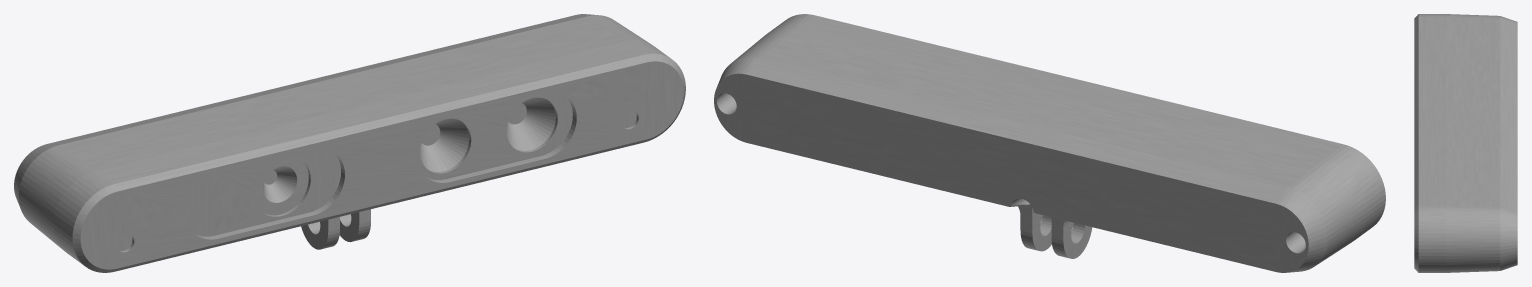
File: xtion_pro_live.dae
3 views of the same model, side by side, from view 1: azimuth 30°, elevation 25°; view 2: azimuth 150°, elevation 25°; view 3: azimuth 270°, elevation 25° (orthographic). The views are drawn at different scales.
Visible parts, largest first — view 1: node; view 2: node; view 3: node.
Part boxes in pixels (bbox=[...]): node: bbox=[14, 14, 685, 272]; node: bbox=[714, 14, 1385, 272]; node: bbox=[1414, 14, 1517, 272].
Bounding box in the file's own units: 180 × 40.6 × 36.
Materials: 1 (1 with a texture image).
